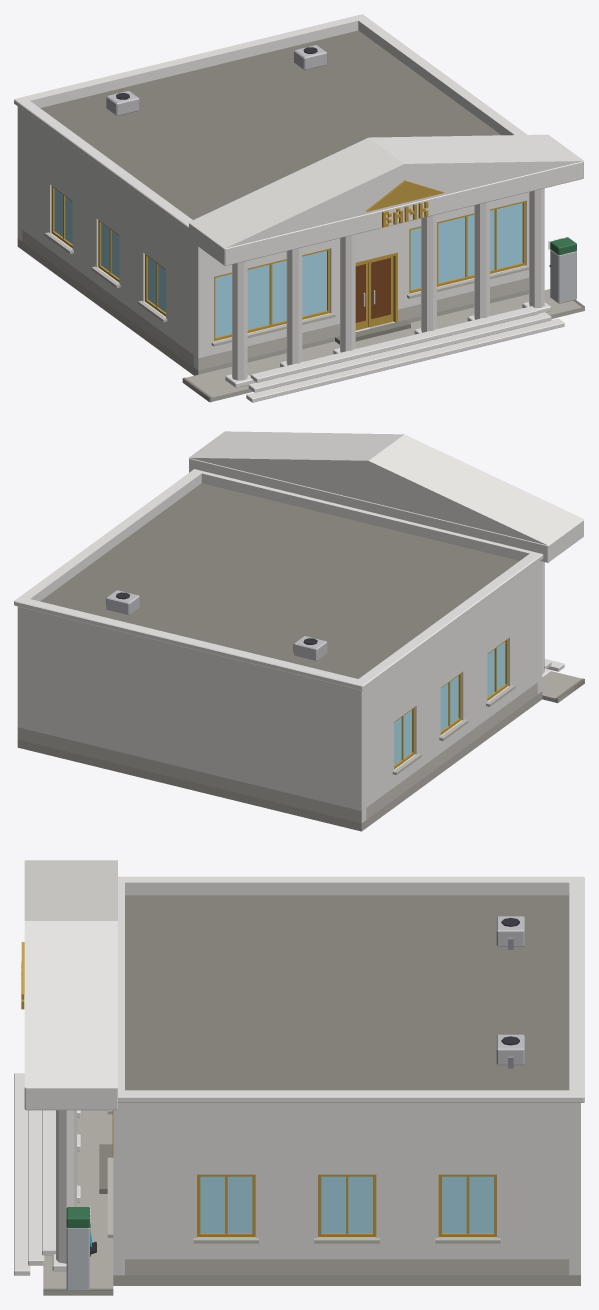
Rendered from GrandBank.fbx.
The picture shows the model from 3 angles, top to bottom: view 1: azimuth 30°, elevation 25°; view 2: azimuth 150°, elevation 25°; view 3: azimuth 270°, elevation 25°; orthographic projection. The views are drawn at different scales.
Parts seen in each view (by area): view 1: GrandBank, GrandBank_Roof, GrandBank_Glass, GrandBank_DoorR, GrandBank_DoorL; view 2: GrandBank, GrandBank_Roof, GrandBank_Glass; view 3: GrandBank, GrandBank_Roof, GrandBank_Glass.
Boxes of the visible parts, bbox=[...] form: GrandBank: bbox=[14, 14, 584, 402]; GrandBank_Roof: bbox=[40, 30, 583, 265]; GrandBank_Glass: bbox=[54, 189, 522, 337]; GrandBank_DoorR: bbox=[368, 256, 393, 327]; GrandBank_DoorL: bbox=[355, 262, 368, 330]; GrandBank: bbox=[14, 469, 584, 831]; GrandBank_Roof: bbox=[40, 431, 583, 678]; GrandBank_Glass: bbox=[394, 641, 505, 765]; GrandBank: bbox=[14, 876, 584, 1295]; GrandBank_Roof: bbox=[21, 860, 569, 1110]; GrandBank_Glass: bbox=[200, 1176, 493, 1232].
Size of the model in its own units: 48.3 by 24.2 by 48.85.
Materials: 1 (1 with a texture image).
